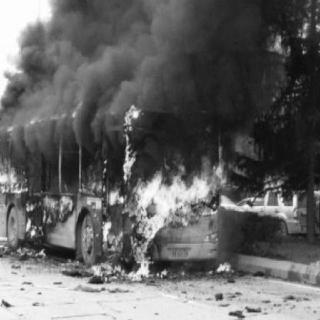Smoke: (7, 1, 287, 113)
